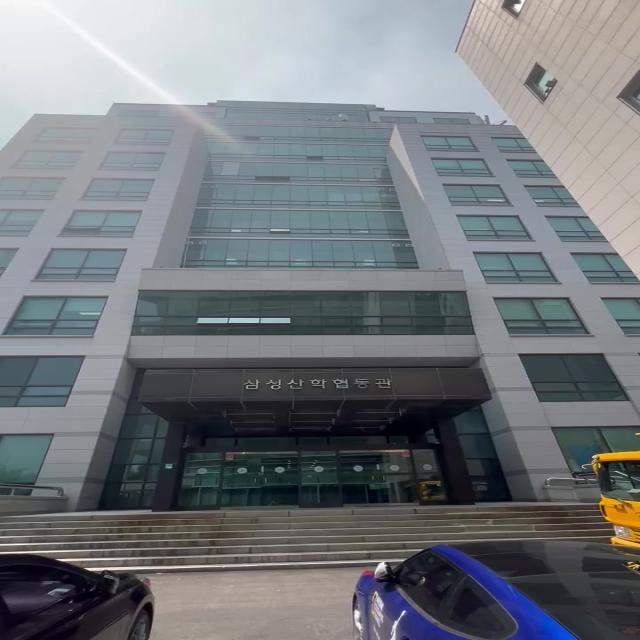building: (0, 85, 574, 505)
